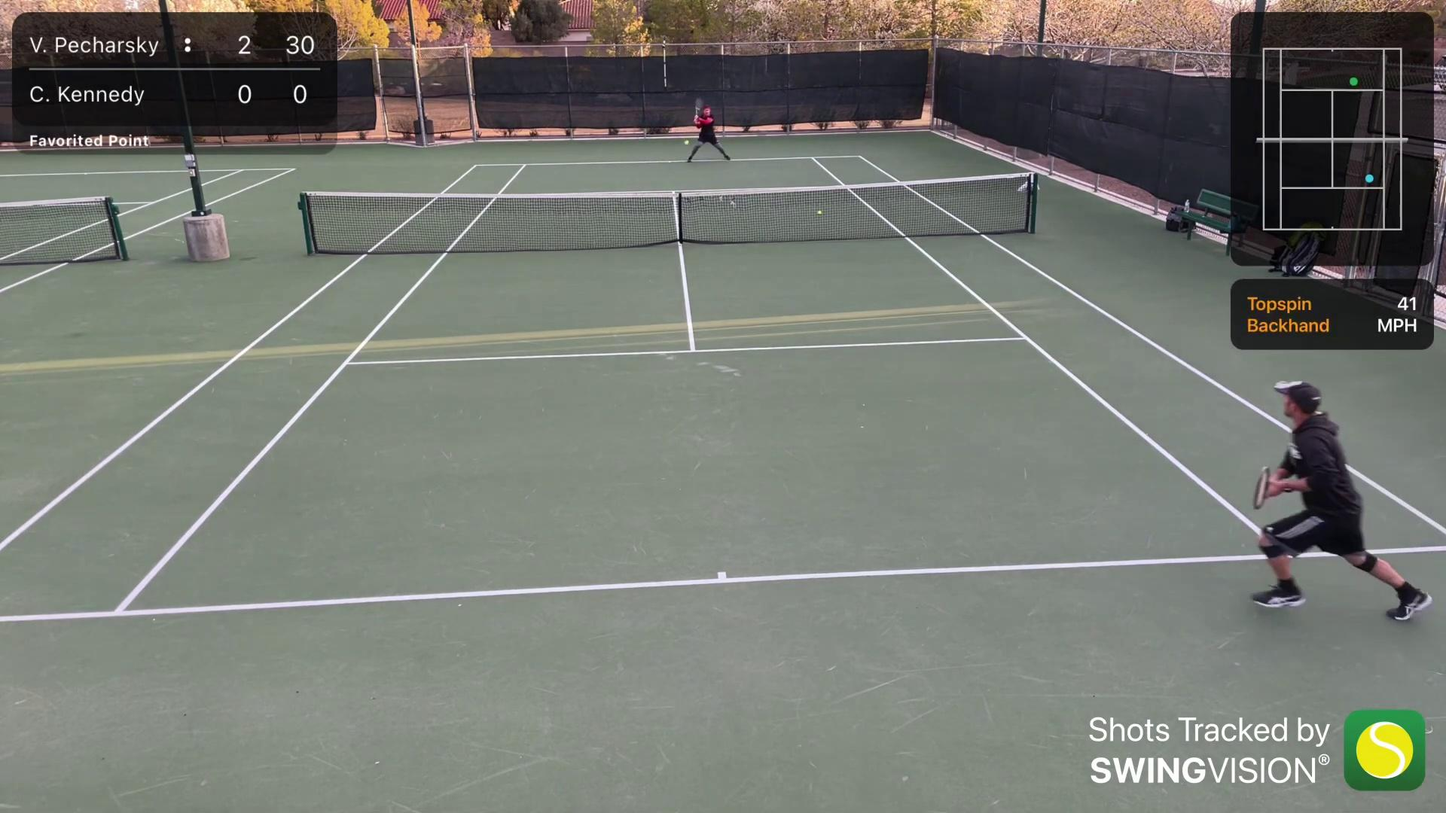ball: (816, 208, 823, 216), (683, 139, 691, 145)
